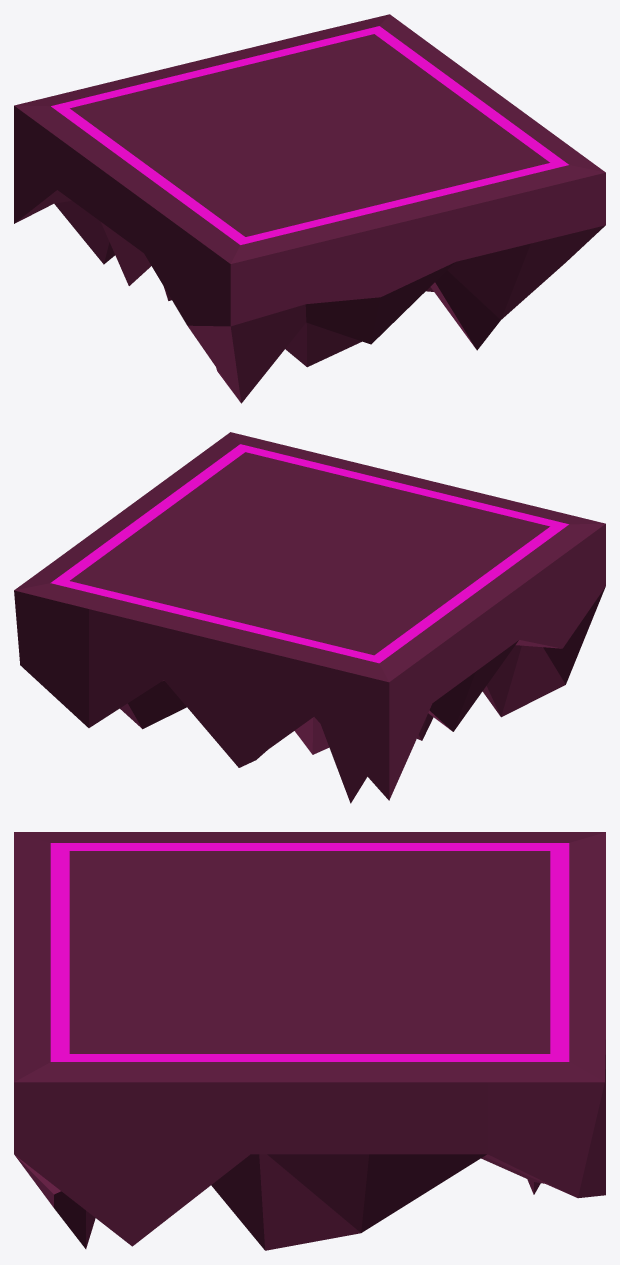
File: PlatformM.fbx
3 views of the same model, one above another, from view 1: azimuth 30°, elevation 25°; view 2: azimuth 150°, elevation 25°; view 3: azimuth 270°, elevation 25° (orthographic). The views are drawn at different scales.
Parts seen in each view (by area): view 1: Cube; view 2: Cube; view 3: Cube.
Part boxes in pixels (x1=…): Cube: x1=14, y1=14, x2=605, y2=403; Cube: x1=14, y1=432, x2=605, y2=803; Cube: x1=14, y1=832, x2=605, y2=1250.
Size of the model in its own units: 707 by 314 by 700.
